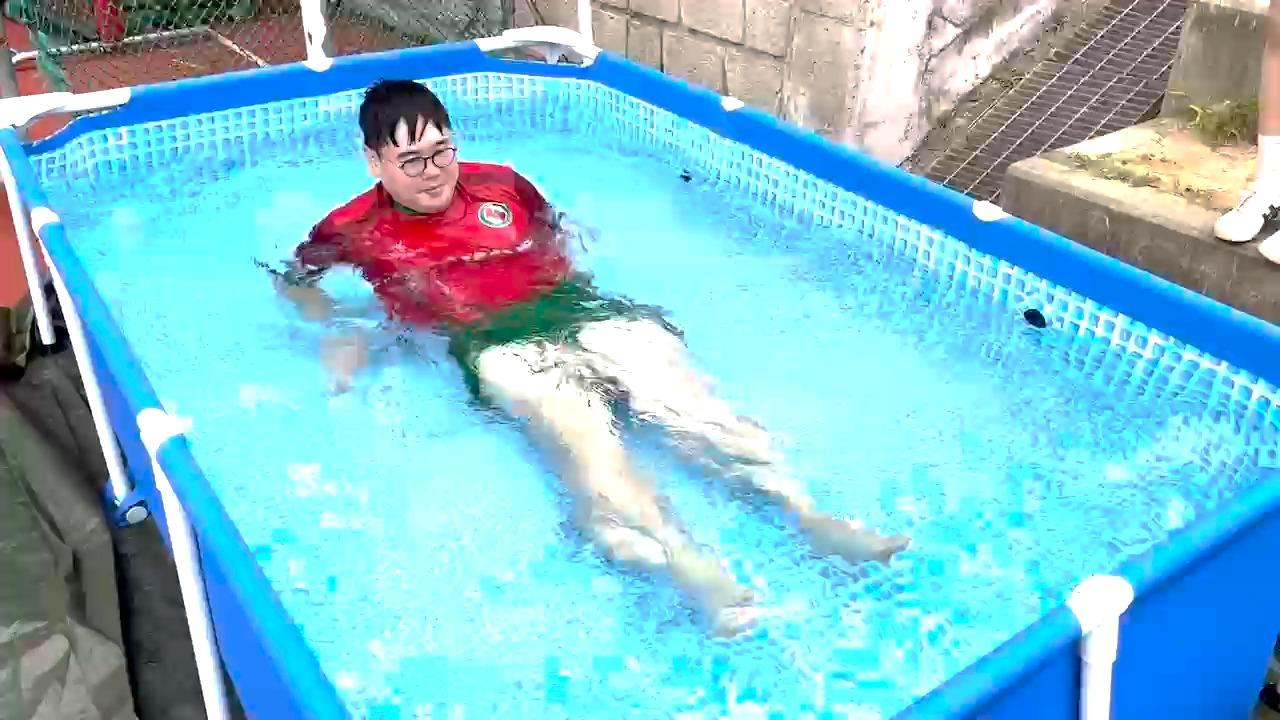Swimming: (276, 47, 914, 641)
